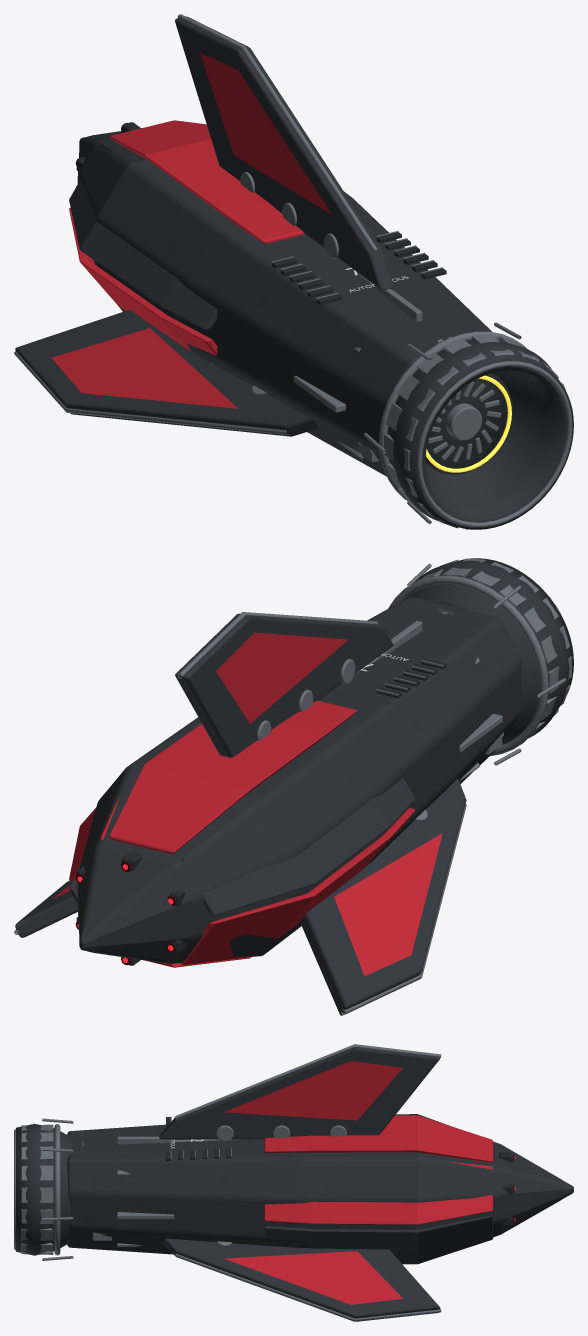
Rendered from kamikaze.glb.
3 renders of one model, top to bottom at view 1: azimuth 30°, elevation 25°; view 2: azimuth 150°, elevation 25°; view 3: azimuth 270°, elevation 25°, orthographic. The views are drawn at different scales.
Visible parts, largest first — view 1: 主装甲_陶瓷金属涂层, 次级装甲_深色钢, 识别色, 拉丝钛合金, 碳化结构与接缝, 热喷口; view 2: 主装甲_陶瓷金属涂层, 次级装甲_深色钢, 识别色, 拉丝钛合金, 碳化结构与接缝; view 3: 主装甲_陶瓷金属涂层, 次级装甲_深色钢, 识别色, 拉丝钛合金, 碳化结构与接缝.
Boxes of the visible parts, left/top/right/bottom form: 主装甲_陶瓷金属涂层: left=77, top=128, right=512, bottom=476; 次级装甲_深色钢: left=15, top=16, right=573, bottom=529; 识别色: left=51, top=52, right=332, bottom=408; 拉丝钛合金: left=14, top=14, right=572, bottom=529; 碳化结构与接缝: left=76, top=122, right=507, bottom=468; 热喷口: left=426, top=375, right=511, bottom=472; 主装甲_陶瓷金属涂层: left=77, top=596, right=521, bottom=963; 次级装甲_深色钢: left=15, top=558, right=573, bottom=1015; 识别色: left=52, top=632, right=442, bottom=976; 拉丝钛合金: left=14, top=558, right=571, bottom=1014; 碳化结构与接缝: left=76, top=658, right=446, bottom=965; 主装甲_陶瓷金属涂层: left=67, top=1114, right=563, bottom=1264; 次级装甲_深色钢: left=16, top=1047, right=573, bottom=1321; 识别色: left=224, top=1061, right=493, bottom=1304; 拉丝钛合金: left=14, top=1044, right=441, bottom=1321; 碳化结构与接缝: left=166, top=1117, right=512, bottom=1226.
Size of the model in its own units: 3.69 by 3.22 by 7.42.
Materials: 9 (1 with a texture image).
